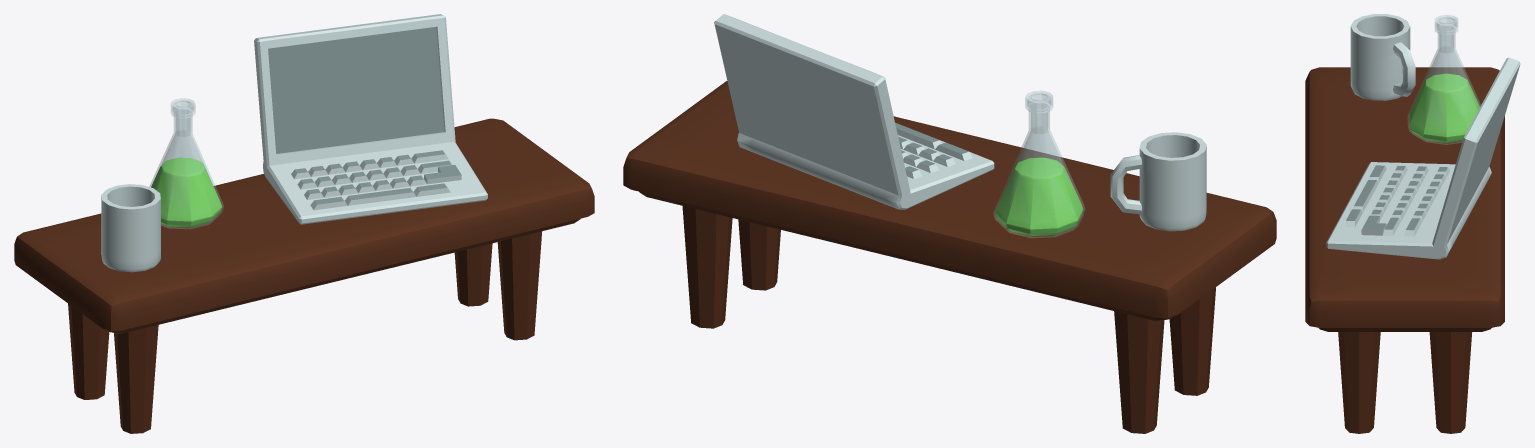
Rendered from TABLE_SET_3.fbx.
The picture shows the model from 3 angles, left to right: view 1: azimuth 30°, elevation 25°; view 2: azimuth 150°, elevation 25°; view 3: azimuth 270°, elevation 25°; orthographic projection. The views are drawn at different scales.
Visible parts, largest first — view 1: TABLE1, LAPTOP1, BEAKER, MUG, BEAKER_FILL; view 2: TABLE1, LAPTOP1, BEAKER, MUG, BEAKER_FILL; view 3: TABLE1, LAPTOP1, BEAKER, MUG, BEAKER_FILL.
Part boxes in pixels (box(x1,y1,x2,y2)): TABLE1: box(14, 118, 594, 433); LAPTOP1: box(254, 14, 487, 224); BEAKER: box(149, 98, 223, 228); MUG: box(101, 184, 160, 272); BEAKER_FILL: box(151, 157, 221, 227); TABLE1: box(623, 81, 1276, 433); LAPTOP1: box(714, 14, 994, 210); BEAKER: box(993, 91, 1085, 237); MUG: box(1110, 132, 1206, 231); BEAKER_FILL: box(995, 157, 1083, 236); TABLE1: box(1305, 67, 1504, 433); LAPTOP1: box(1326, 57, 1520, 259); BEAKER: box(1408, 15, 1480, 144); MUG: box(1350, 14, 1415, 100); BEAKER_FILL: box(1409, 73, 1479, 142).
Bounding box in the file's own units: 101 × 55.93 × 38.77.
